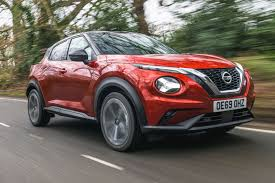Nissan: (31, 38, 253, 135)
